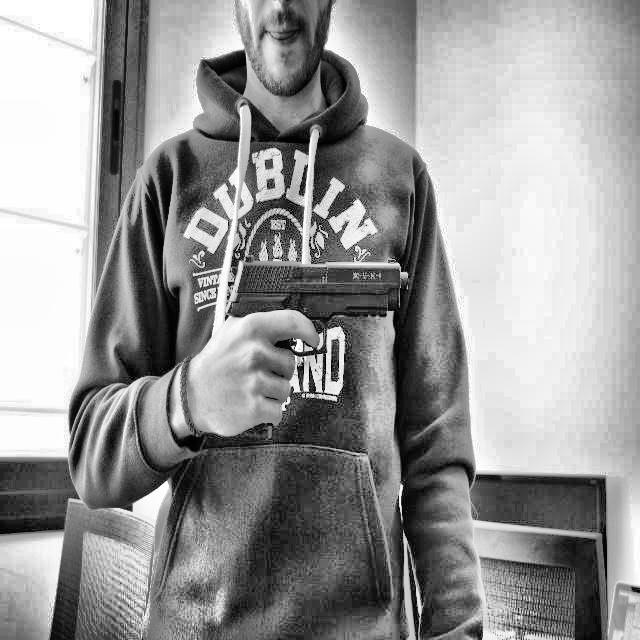pistol: (219, 244, 433, 407)
